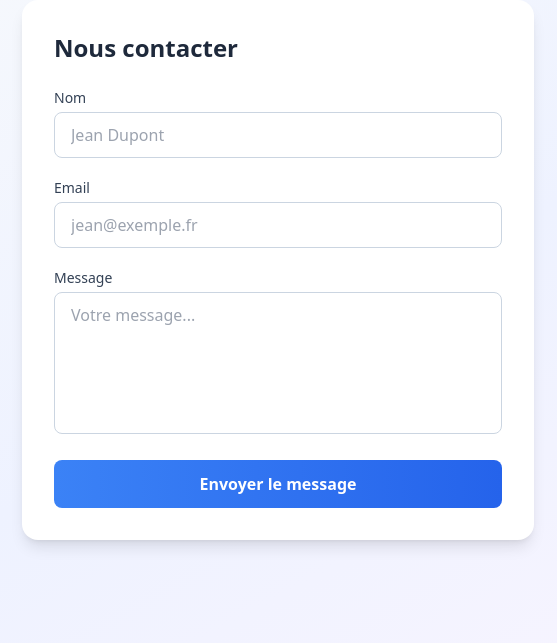
Test case: ContactForm › affiche une erreur si le nom est trop court (1 char)
The width and height of the screenshot is (557, 643).
Type "A" into the field labelled "Nom" at (278, 135), box [54, 112, 502, 158]
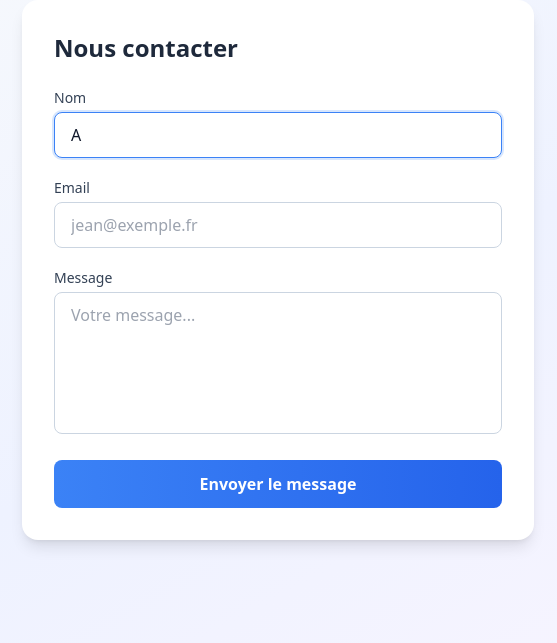
Click the button "Envoyer le message" at (278, 484), box [54, 460, 502, 508]
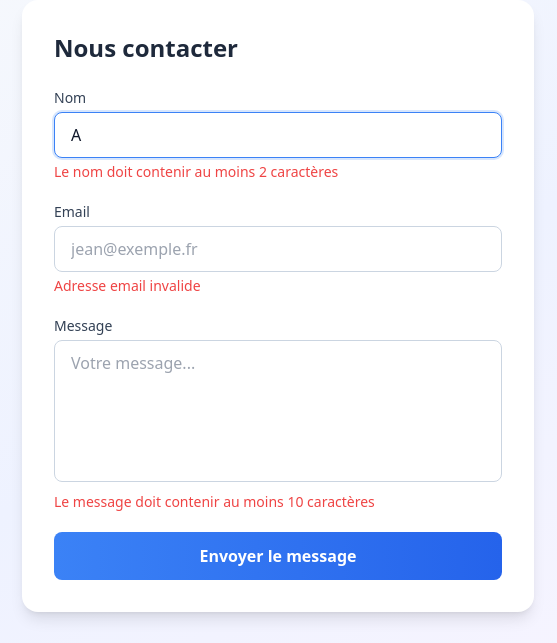
Now the text "Le nom doit contenir au moins 2 caractères" is shown, box [54, 162, 338, 181]
